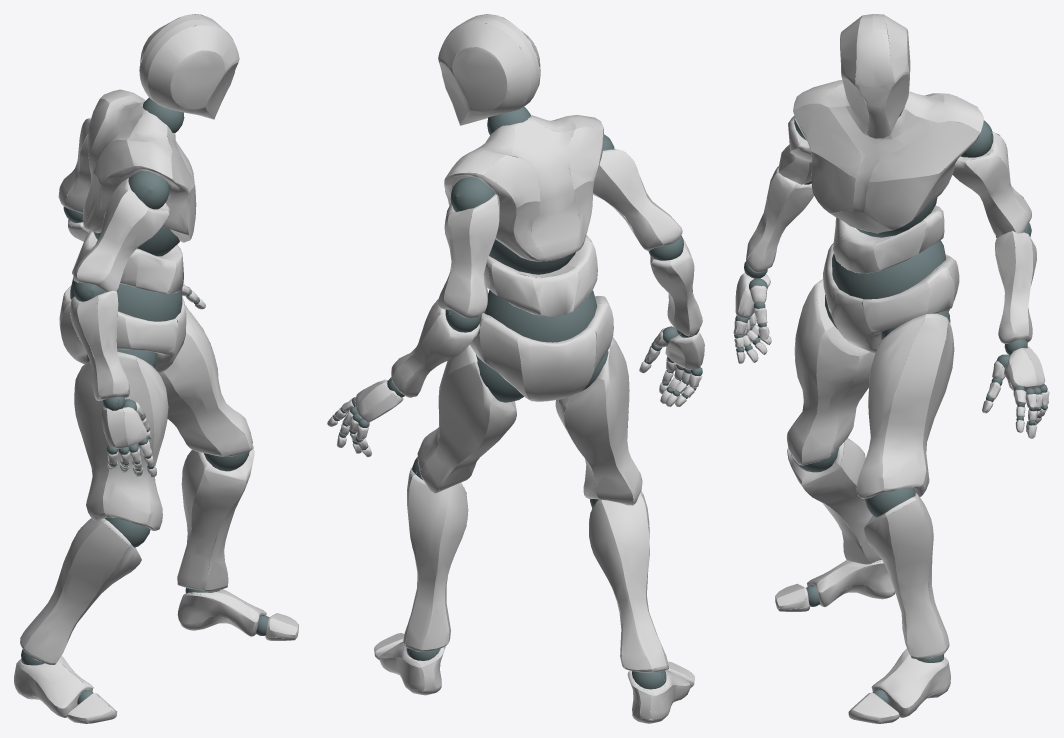
Rendered from y_bot.glb.
The picture shows the model from 3 angles, left to right: view 1: azimuth 30°, elevation 25°; view 2: azimuth 150°, elevation 25°; view 3: azimuth 270°, elevation 25°; orthographic projection. The views are drawn at different scales.
Visible parts, largest first — view 1: Alpha_Surface, Alpha_Joints; view 2: Alpha_Surface, Alpha_Joints; view 3: Alpha_Surface, Alpha_Joints.
Boxes of the visible parts, <box> form: Alpha_Surface: <box>14,14,298,723</box>; Alpha_Joints: <box>21,97,269,704</box>; Alpha_Surface: <box>327,14,704,723</box>; Alpha_Joints: <box>333,106,702,689</box>; Alpha_Surface: <box>733,14,1049,723</box>; Alpha_Joints: <box>734,99,1047,704</box>.
Size of the model in its own units: 0.7715 by 1.7 by 0.7387.
